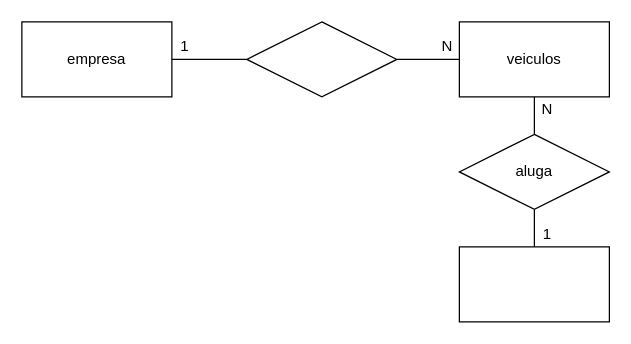
Some shapes in this 631 by 344 pixel diagram are drawn without their labels. Each missing label, with the box of its shape:
cliente: (458, 246, 609, 322)
possui: (246, 21, 397, 97)
